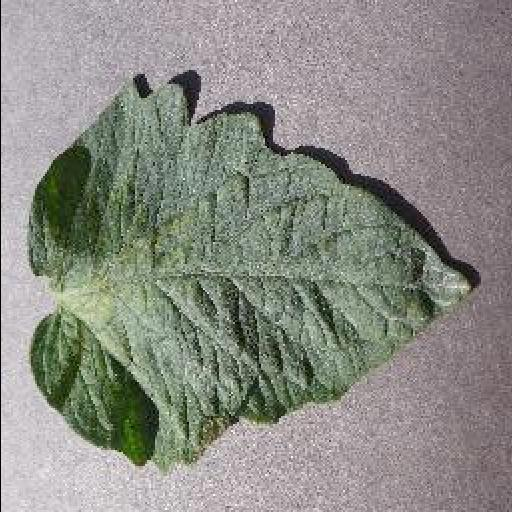disease_tomato: (28, 70, 474, 472)
